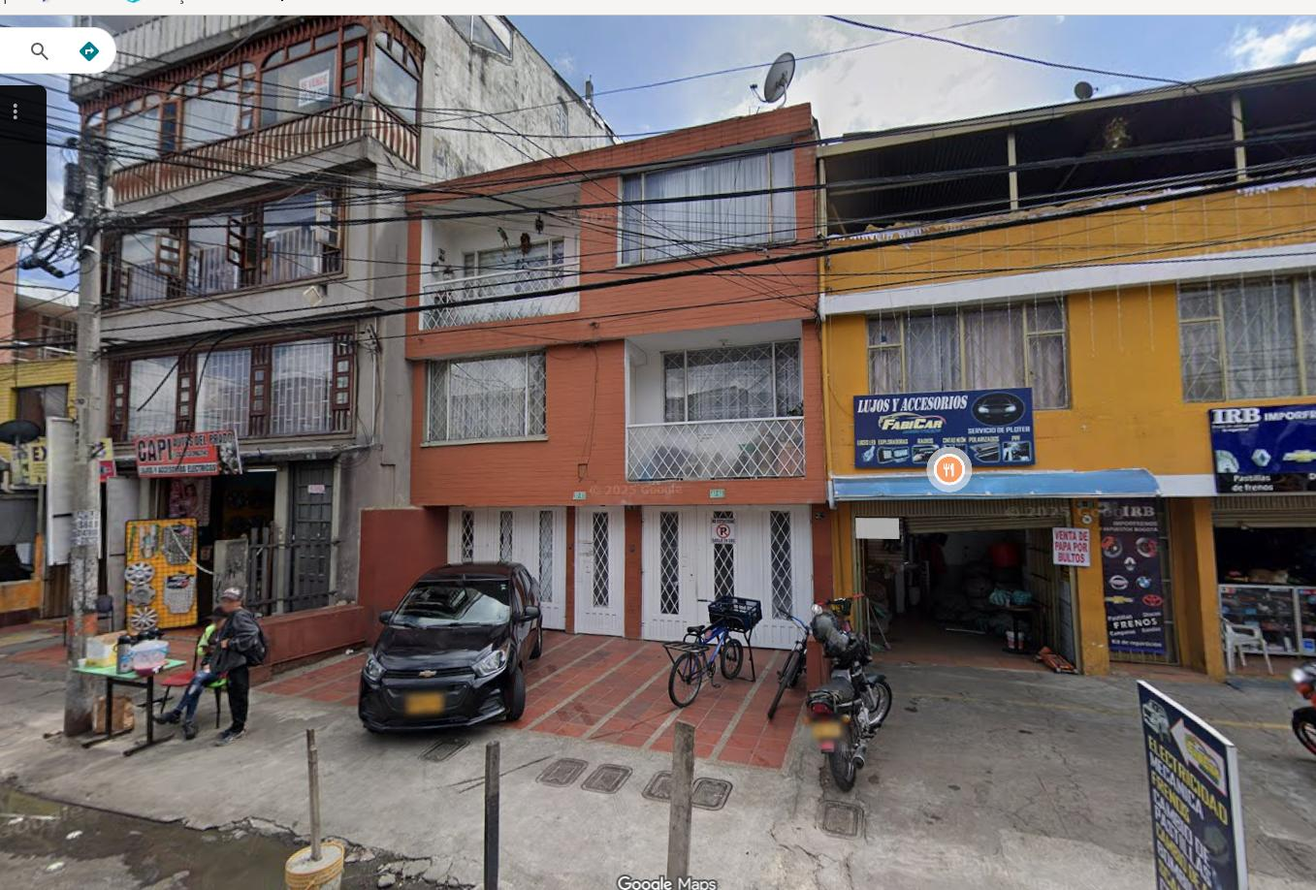casa: (71, 14, 617, 610), (806, 62, 1315, 673), (405, 105, 827, 637)
poste: (68, 130, 107, 668), (64, 674, 95, 735)
